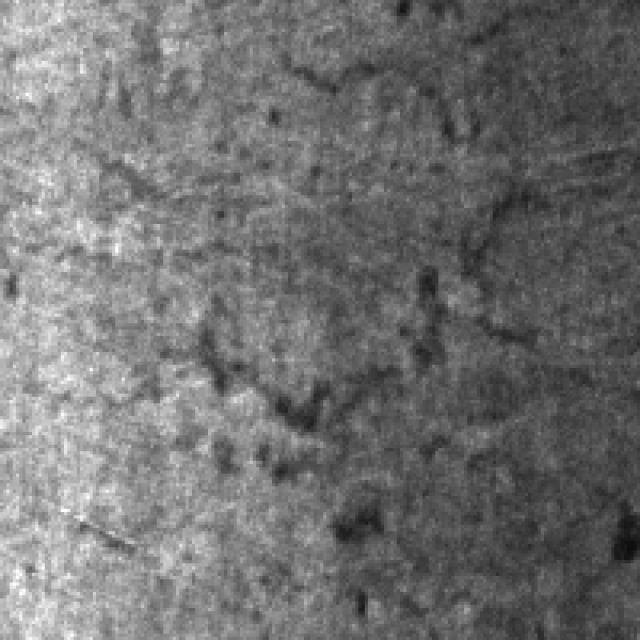crazing: (96, 42, 582, 426), (275, 320, 624, 627), (416, 3, 614, 221)
